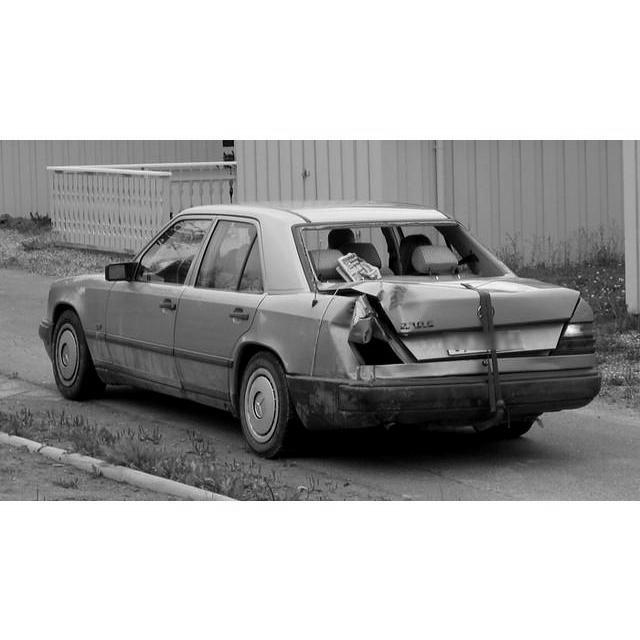Rear-windscreen-Damage: (298, 213, 499, 300)
boot-dent: (360, 282, 560, 375)
rear-bumper-dent: (300, 367, 602, 431)
